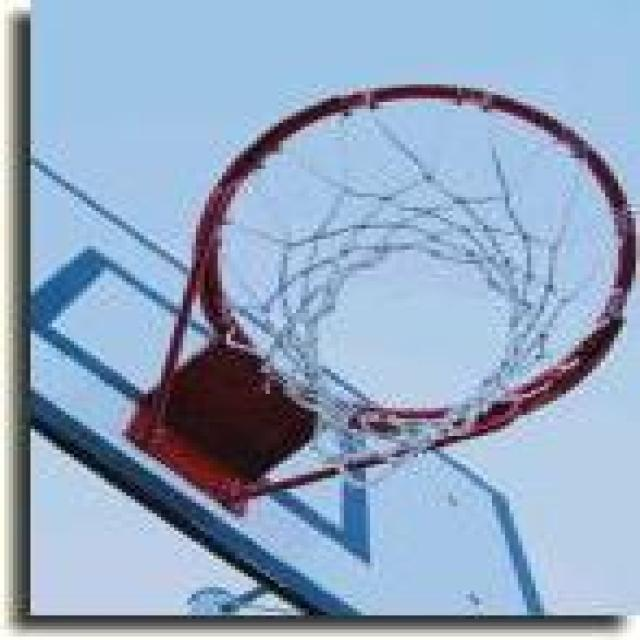hoop: (175, 68, 640, 460)
